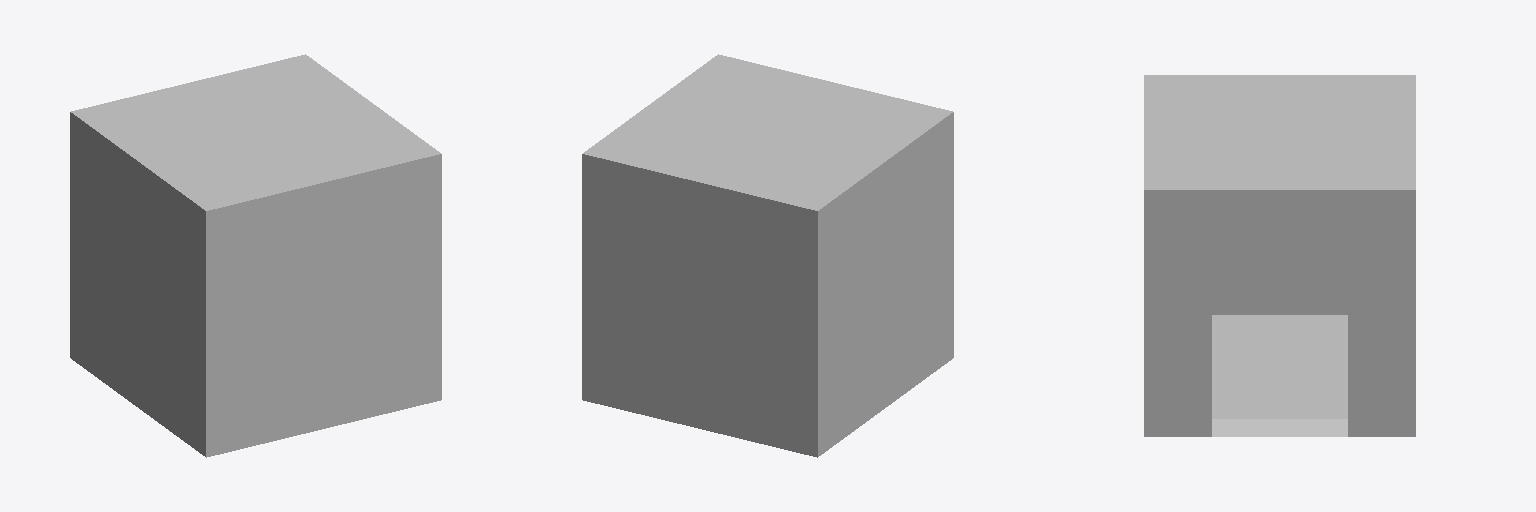
Rendered from elevator.obj.
3 views of the same model, side by side, from view 1: azimuth 30°, elevation 25°; view 2: azimuth 150°, elevation 25°; view 3: azimuth 270°, elevation 25° (orthographic).
Visible parts, largest first — view 1: Cube; view 2: Cube; view 3: Cube.
Boxes of the visible parts, x1,y1,x2,y2 form: Cube: [70, 54, 441, 457]; Cube: [582, 54, 953, 457]; Cube: [1144, 75, 1415, 436].
Size of the model in its own units: 12 by 12 by 12.